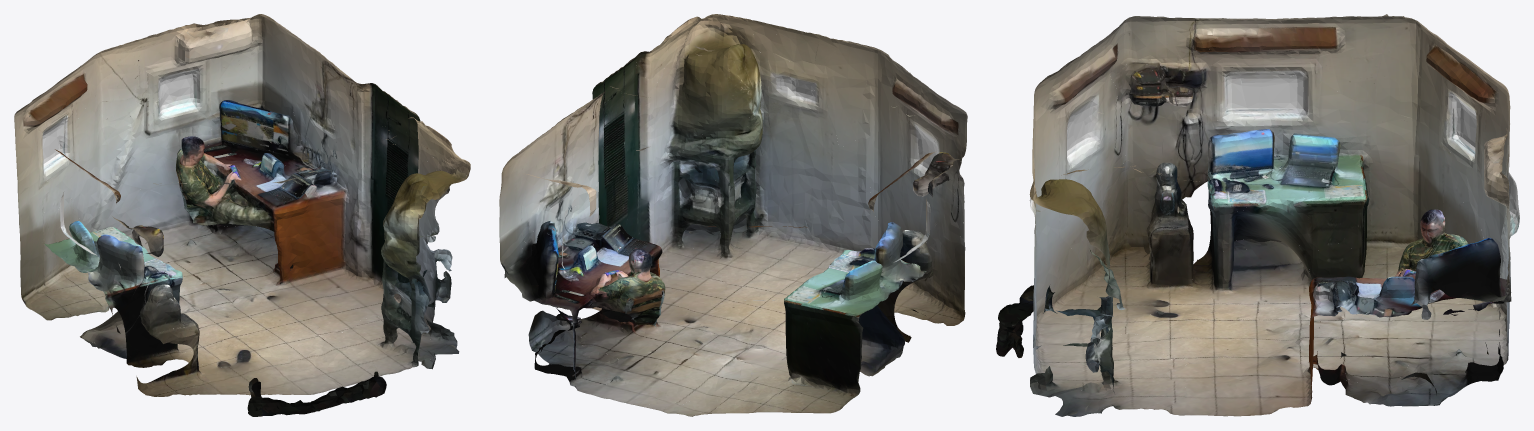
The model's file is demo-apartment.glb.
3 renders of one model, left to right at view 1: azimuth 30°, elevation 25°; view 2: azimuth 150°, elevation 25°; view 3: azimuth 270°, elevation 25°, orthographic. The views are drawn at different scales.
Size of the model in its own units: 3.17 by 2.1 by 4.03.
2 materials, 2 textured.
